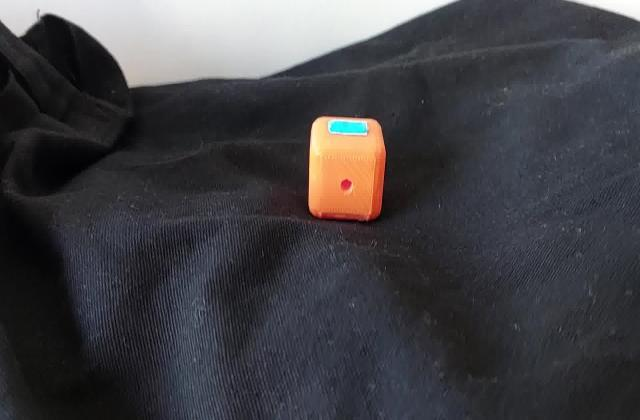blue: (336, 123, 363, 132)
cube: (306, 112, 388, 226)
